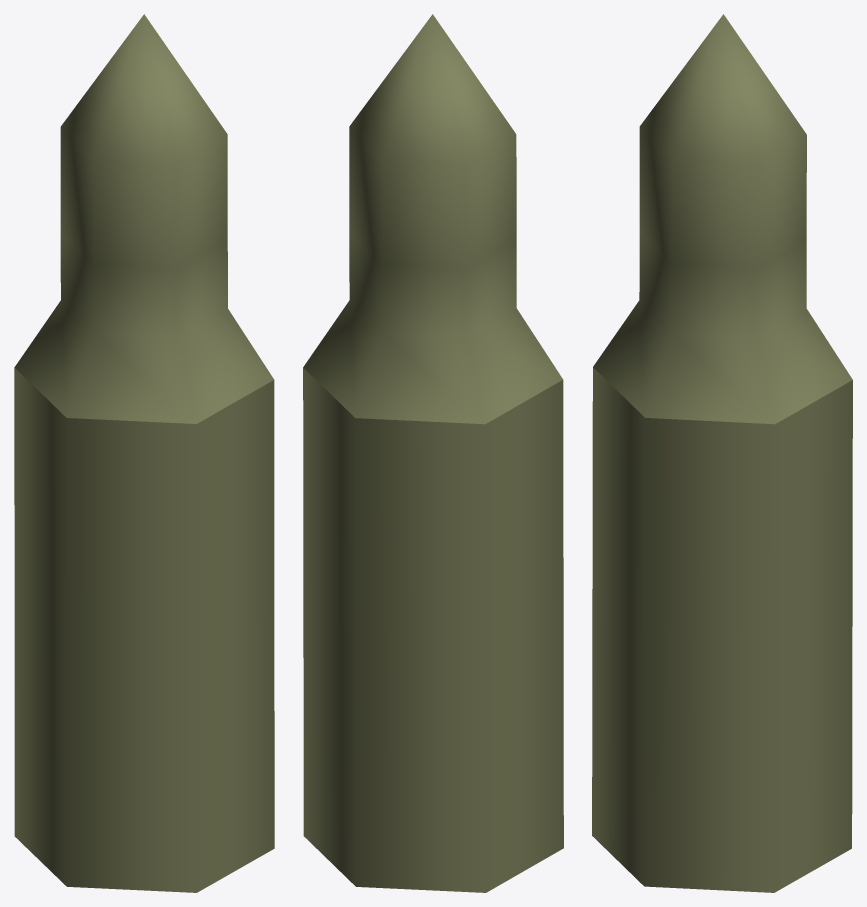
Rendered from M8_Greyhound_Shell.fbx.
3 renders of one model, left to right at view 1: azimuth 30°, elevation 25°; view 2: azimuth 150°, elevation 25°; view 3: azimuth 270°, elevation 25°, orthographic.
Visible parts, largest first — view 1: turret.001; view 2: turret.001; view 3: turret.001.
Part boxes in pixels (x1,y1,x2,y2): turret.001: (14,14,274,892); turret.001: (303,14,563,892); turret.001: (592,14,852,892).
Size of the model in its own units: 14.91 by 56.77 by 16.2.
